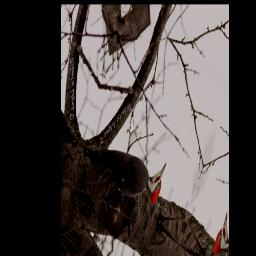Woodpecker: (81, 106, 169, 222)
